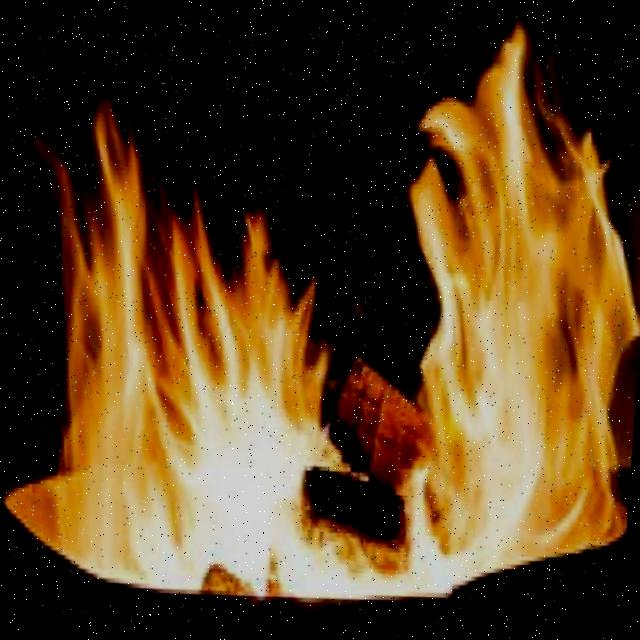fire: (0, 81, 356, 611), (326, 15, 640, 612)
